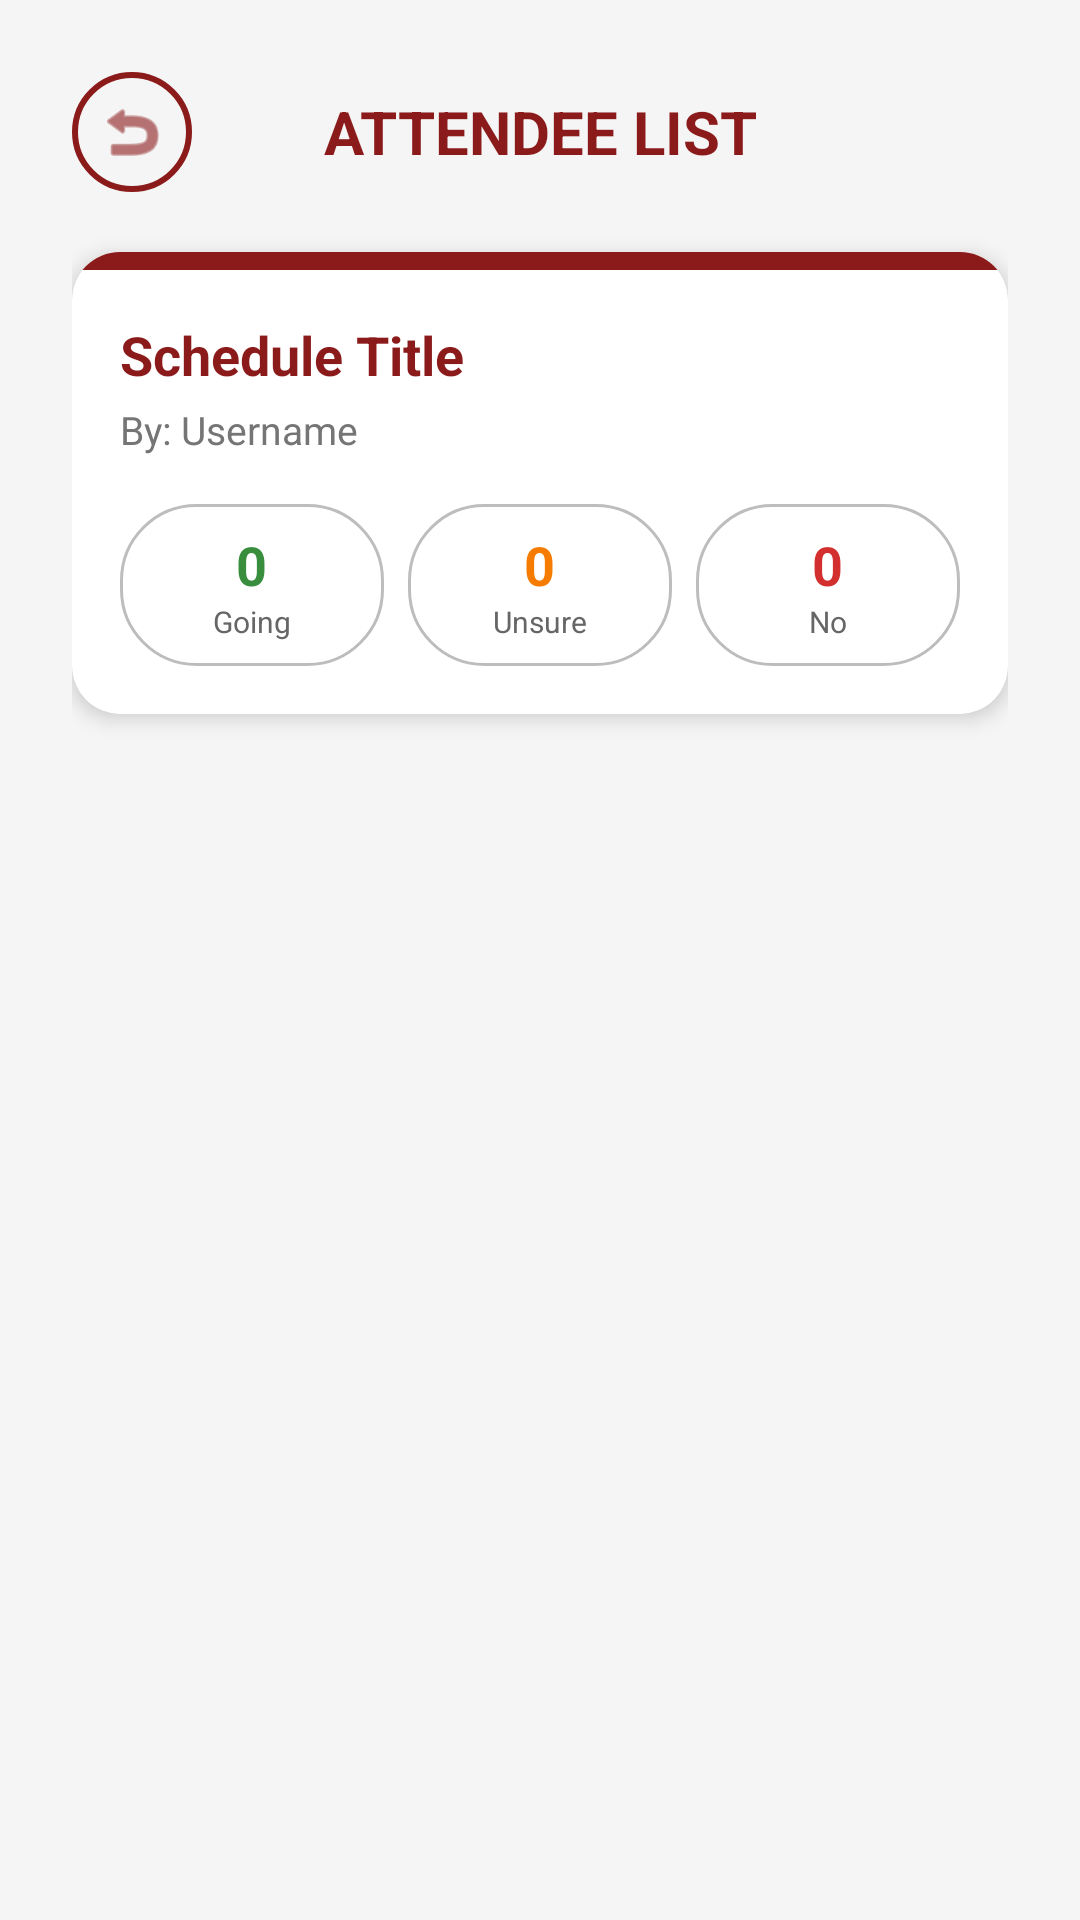

Icon click points for this 1080px x 1920px phone screenshot, format (x=x, y=y):
revert: (x=132, y=132)
